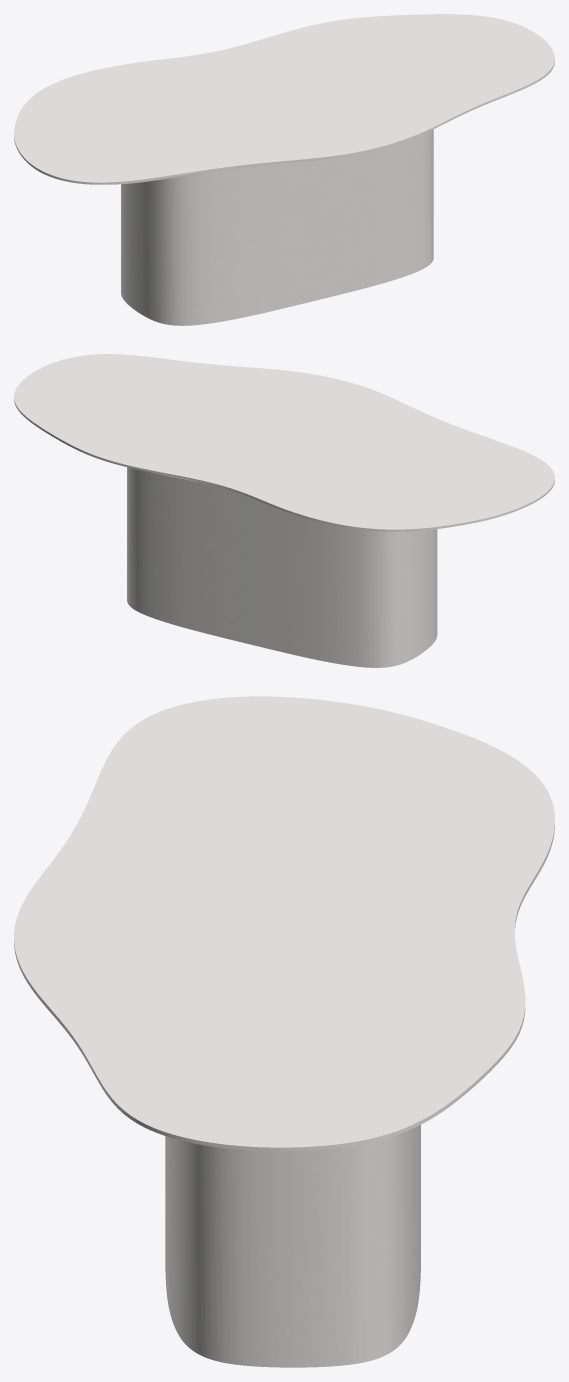
File: purewhite_toplast_facet_fixed.glb
The picture shows the model from 3 angles, top to bottom: view 1: azimuth 30°, elevation 25°; view 2: azimuth 150°, elevation 25°; view 3: azimuth 270°, elevation 25°; orthographic projection. The views are drawn at different scales.
Visible parts, largest first — view 1: facet_toplast, fixed; view 2: facet_toplast, fixed; view 3: facet_toplast, fixed.
Boxes of the visible parts, <box> form: facet_toplast: <box>14,14,554,184</box>; fixed: <box>121,129,433,325</box>; facet_toplast: <box>14,354,554,531</box>; fixed: <box>127,467,437,667</box>; facet_toplast: <box>14,696,554,1151</box>; fixed: <box>165,1125,420,1367</box>.
Bounding box in the file's own units: 7.5 × 2.5 × 3.8.
1 material, 1 textured.
